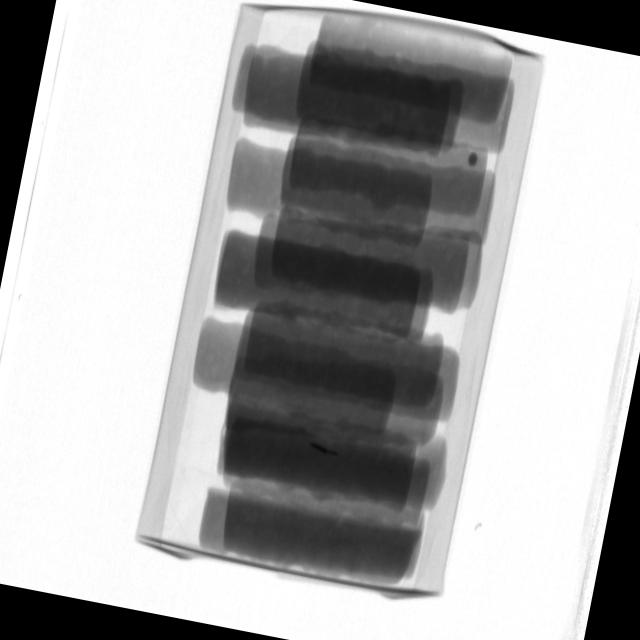ym: (310, 442, 344, 458), (468, 154, 479, 168)
